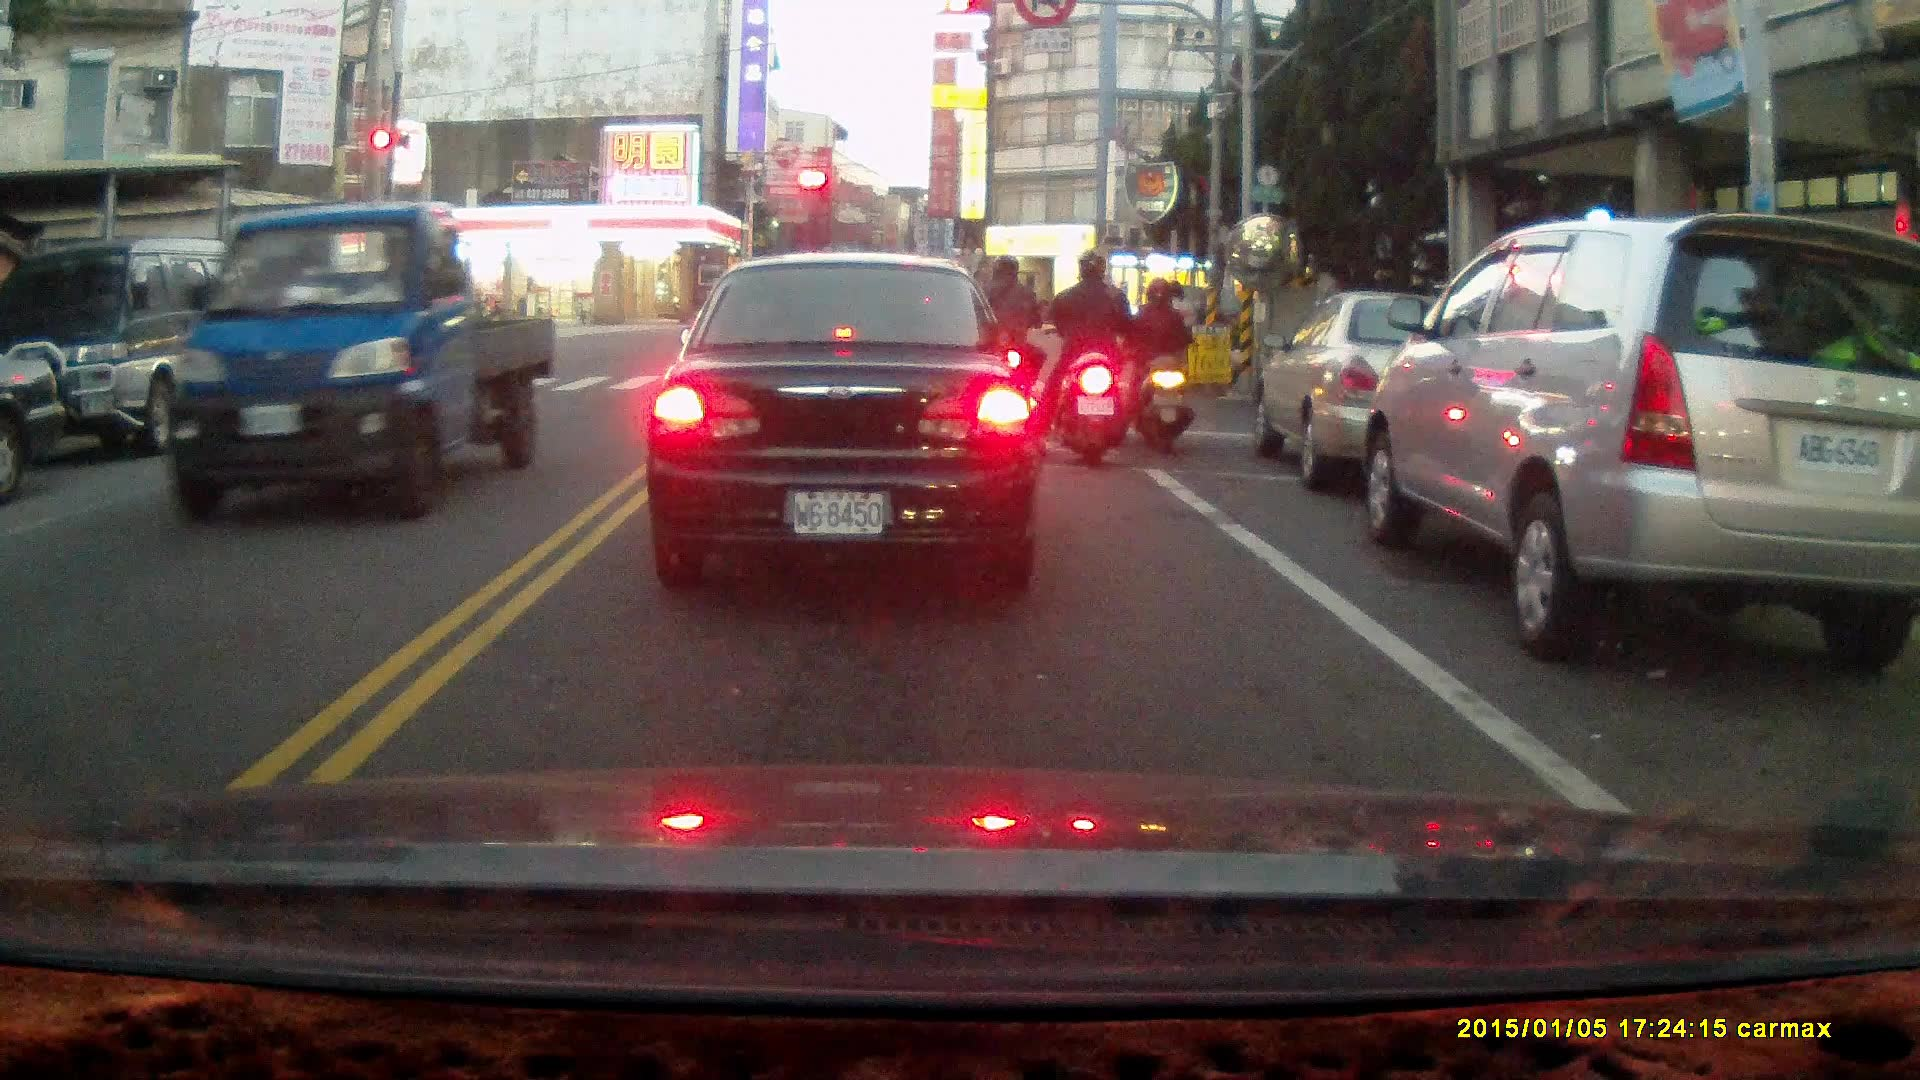rider: (1035, 251, 1138, 465), (965, 256, 1045, 434), (1123, 277, 1191, 451)
vehicle: (1355, 212, 1919, 656), (644, 251, 1042, 591), (166, 200, 556, 522), (1252, 285, 1542, 494), (6, 235, 270, 457), (1, 323, 69, 506)
